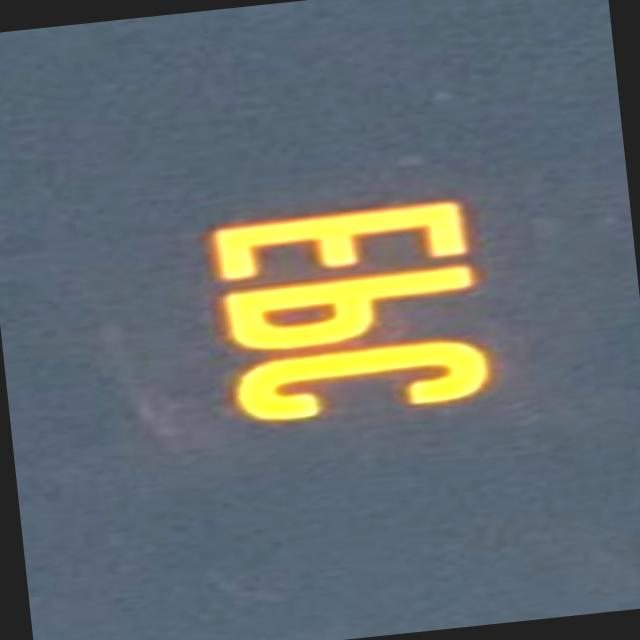kontrolka: (172, 172, 540, 460)
